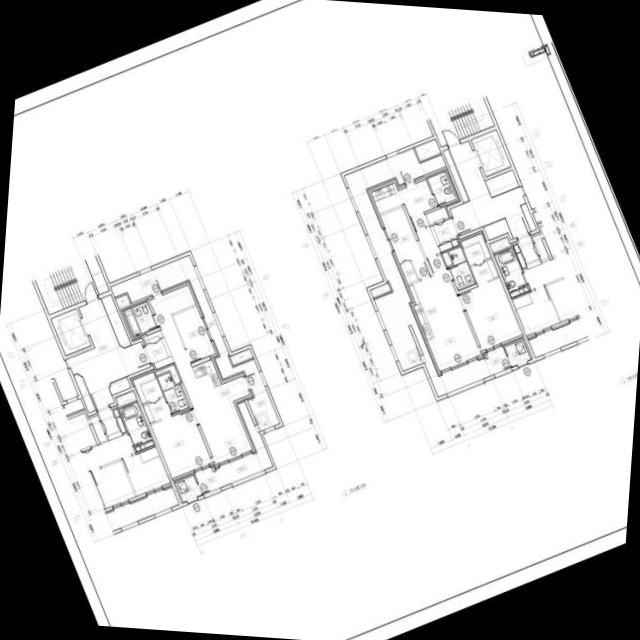background: (0, 0, 640, 640)
space_balconi: (344, 147, 510, 396), (110, 254, 279, 430), (195, 401, 272, 493)
space_bedroom: (459, 277, 521, 349), (150, 408, 211, 477), (380, 206, 429, 278), (172, 305, 215, 361)
space_dressroom: (132, 371, 162, 403), (460, 233, 490, 264), (142, 396, 170, 422), (470, 258, 498, 283), (400, 260, 417, 283)
space_elevator: (51, 308, 90, 354)
space_elevator_hall: (67, 298, 150, 409), (448, 129, 530, 237)
space_front: (424, 206, 459, 251), (143, 329, 174, 368)
space_kitchen: (408, 274, 454, 339), (192, 359, 249, 410), (371, 182, 404, 213)
space_living_room: (149, 284, 252, 463), (399, 179, 481, 370)
space_other: (100, 293, 130, 346), (443, 148, 468, 202), (85, 254, 108, 293), (485, 169, 518, 196), (73, 373, 95, 411), (483, 217, 512, 239), (414, 138, 440, 160), (155, 364, 180, 383), (520, 203, 536, 230), (109, 376, 130, 394), (229, 348, 252, 364), (369, 282, 390, 297), (115, 293, 129, 307), (441, 251, 452, 265)
space_outdoor_room: (175, 474, 201, 501), (504, 339, 530, 365)
space_staircase: (35, 259, 98, 313)
space_toilet: (157, 371, 188, 413), (122, 300, 156, 336), (427, 171, 456, 204), (450, 259, 475, 289), (448, 245, 465, 264)
